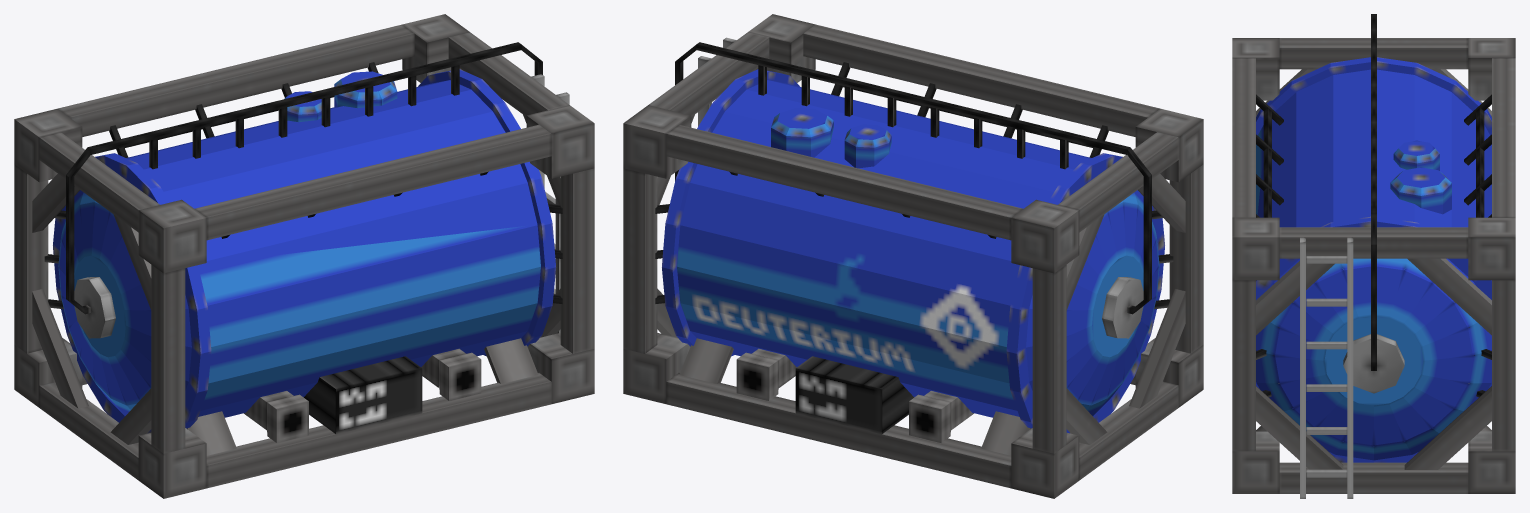
File: deuterium_tank.obj
3 renders of one model, left to right at view 1: azimuth 30°, elevation 25°; view 2: azimuth 150°, elevation 25°; view 3: azimuth 270°, elevation 25°, orthographic. The views are drawn at different scales.
Visible parts, largest first — view 1: Frame; view 2: Frame; view 3: Frame.
Boxes of the visible parts, box(x1,y1,x2,y2) form: Frame: box(14, 14, 594, 498); Frame: box(623, 14, 1203, 498); Frame: box(1232, 14, 1515, 498).
Size of the model in its own units: 5.5 by 3.28 by 3.
